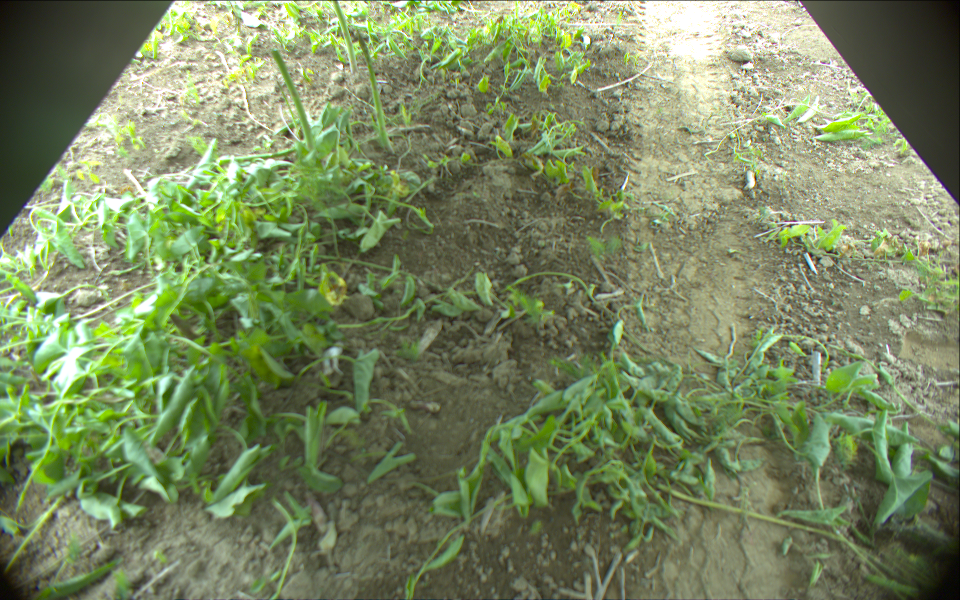aspa: (270, 49, 317, 150), (355, 32, 394, 153), (330, 1, 358, 71)
